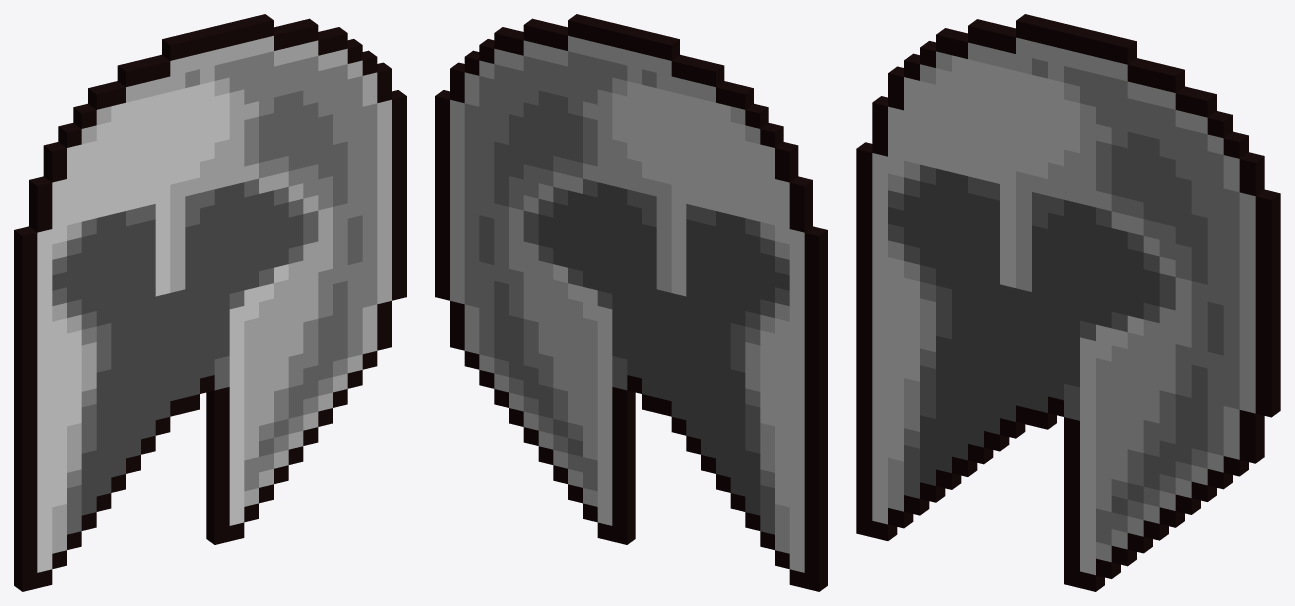
Rendered from C_Elm03.fbx.
3 renders of one model, left to right at view 1: azimuth 30°, elevation 25°; view 2: azimuth 150°, elevation 25°; view 3: azimuth 330°, elevation 25°, orthographic. The views are drawn at different scales.
Visible parts, largest first — view 1: Default; view 2: Default; view 3: Default.
Part boxes in pixels (x1,y1,x2,y2): Default: (14, 14, 406, 591); Default: (435, 14, 827, 591); Default: (856, 14, 1280, 591).
Bounding box in the file's own units: 26 × 33 × 1.
1 material, 1 textured.
